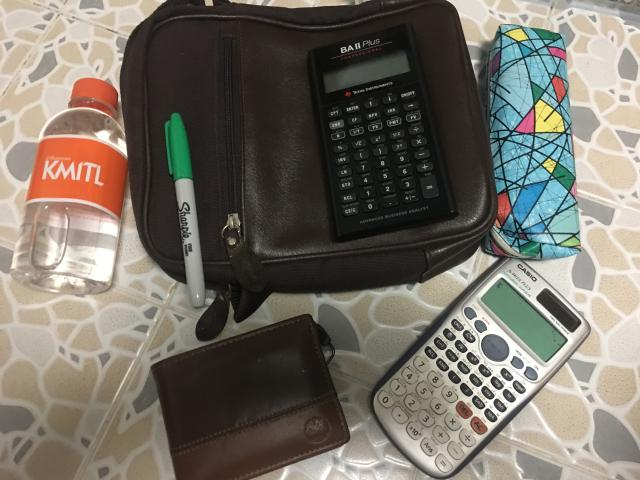Pen: (165, 112, 205, 308)
Wallet: (371, 259, 590, 479), (151, 314, 350, 479)
bottle: (11, 78, 128, 294)
